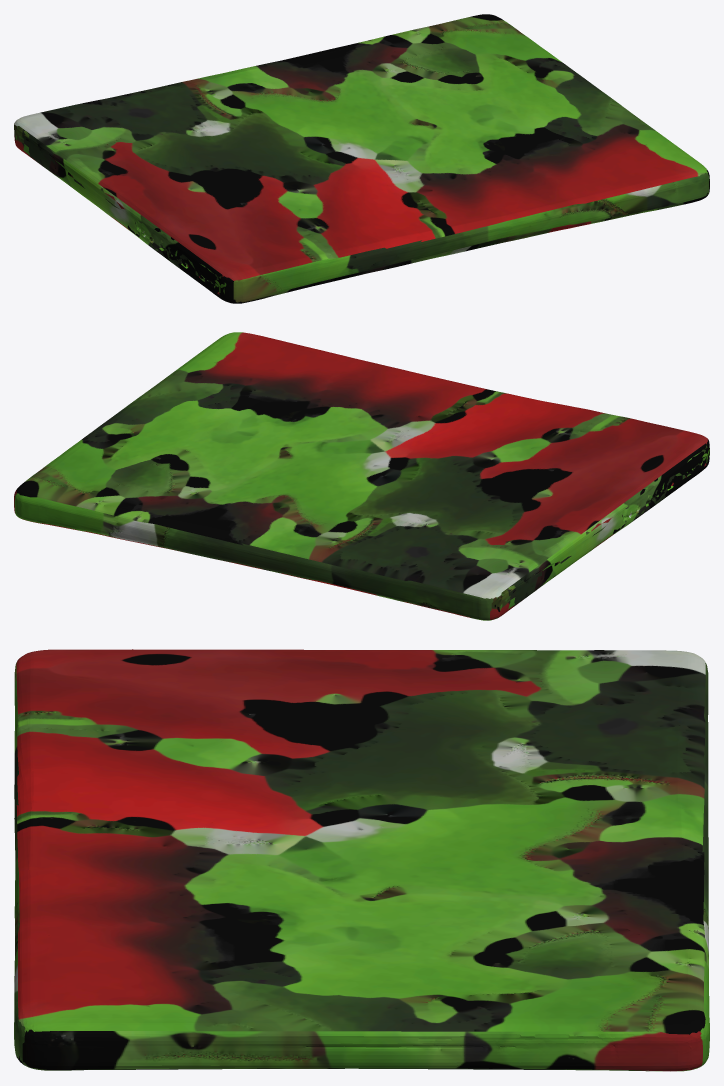
File: sample.obj
The picture shows the model from 3 angles, top to bottom: view 1: azimuth 30°, elevation 25°; view 2: azimuth 150°, elevation 25°; view 3: azimuth 270°, elevation 25°; orthographic projection. The views are drawn at different scales.
Size of the model in its own units: 0.2636 by 0.0215 by 0.2097.
